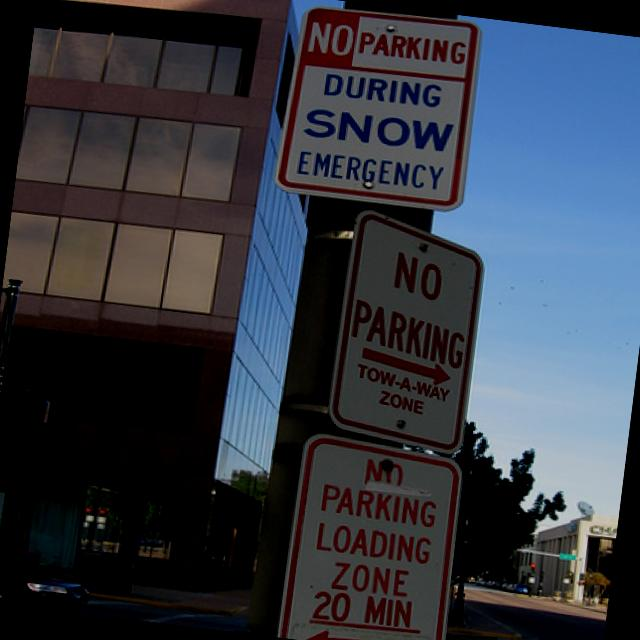Vehicle: (0, 538, 96, 614), (512, 582, 530, 594), (475, 578, 487, 585)
